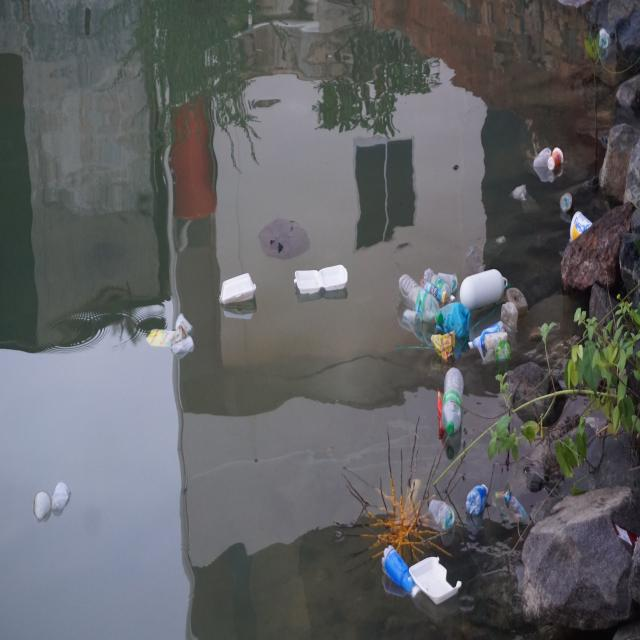Botol Plastik: (380, 541, 424, 602), (397, 271, 444, 324), (444, 366, 468, 444), (469, 316, 505, 350), (426, 266, 459, 301), (466, 477, 490, 521), (420, 275, 452, 305), (500, 298, 521, 336)
Bungkus Makanan: (409, 553, 463, 610), (295, 260, 350, 302), (217, 269, 262, 313), (431, 329, 459, 362), (147, 326, 180, 353), (570, 210, 595, 242), (435, 387, 448, 440)
Bungkus Minuman: (429, 498, 458, 534), (53, 480, 71, 515), (439, 267, 462, 292), (34, 491, 53, 521), (404, 309, 426, 333), (173, 339, 196, 360), (176, 313, 195, 338), (548, 148, 565, 173), (559, 189, 574, 214), (497, 343, 514, 364), (599, 30, 612, 51)
Kantong Plastik: (258, 217, 311, 263), (441, 302, 474, 341), (512, 181, 532, 209), (533, 147, 553, 171)
